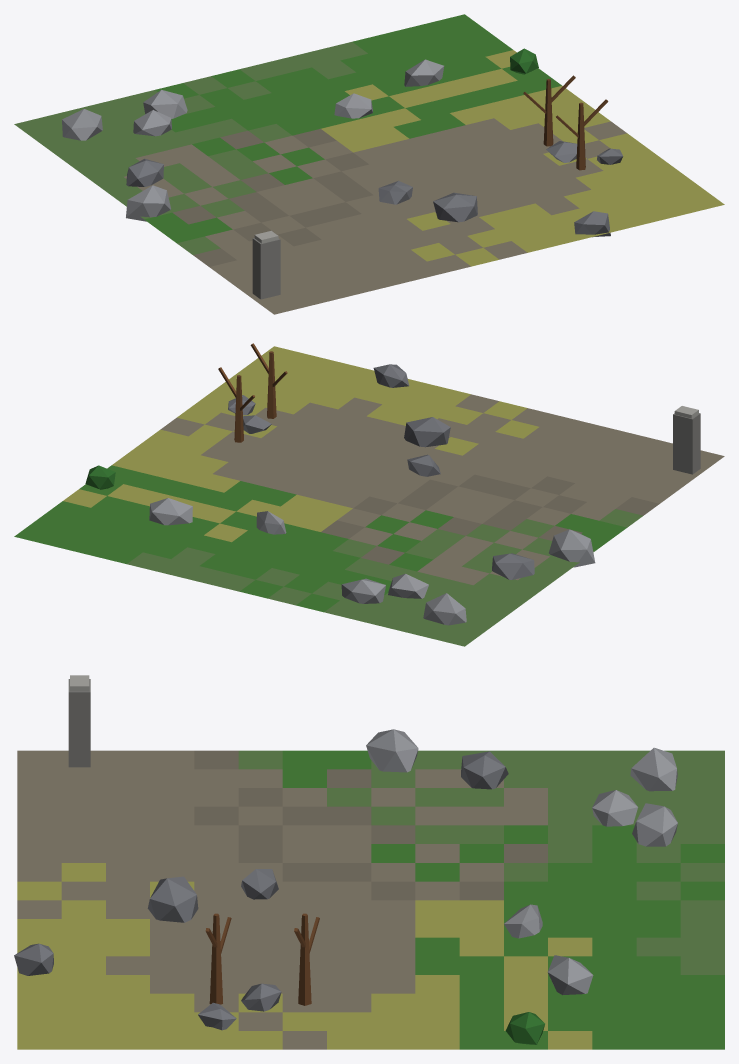
File: chunk_10_16.glb
The picture shows the model from 3 angles, top to bottom: view 1: azimuth 30°, elevation 25°; view 2: azimuth 150°, elevation 25°; view 3: azimuth 270°, elevation 25°; orthographic projection. The views are drawn at different scales.
Parts seen in each view (by area): view 1: chunk_10_16; view 2: chunk_10_16; view 3: chunk_10_16.
Part boxes in pixels (x1,y1,x2,y2): chunk_10_16: (14, 14, 724, 314); chunk_10_16: (14, 343, 724, 646); chunk_10_16: (14, 675, 724, 1049).
Size of the model in its own units: 16.33 by 2.7 by 16.08.
